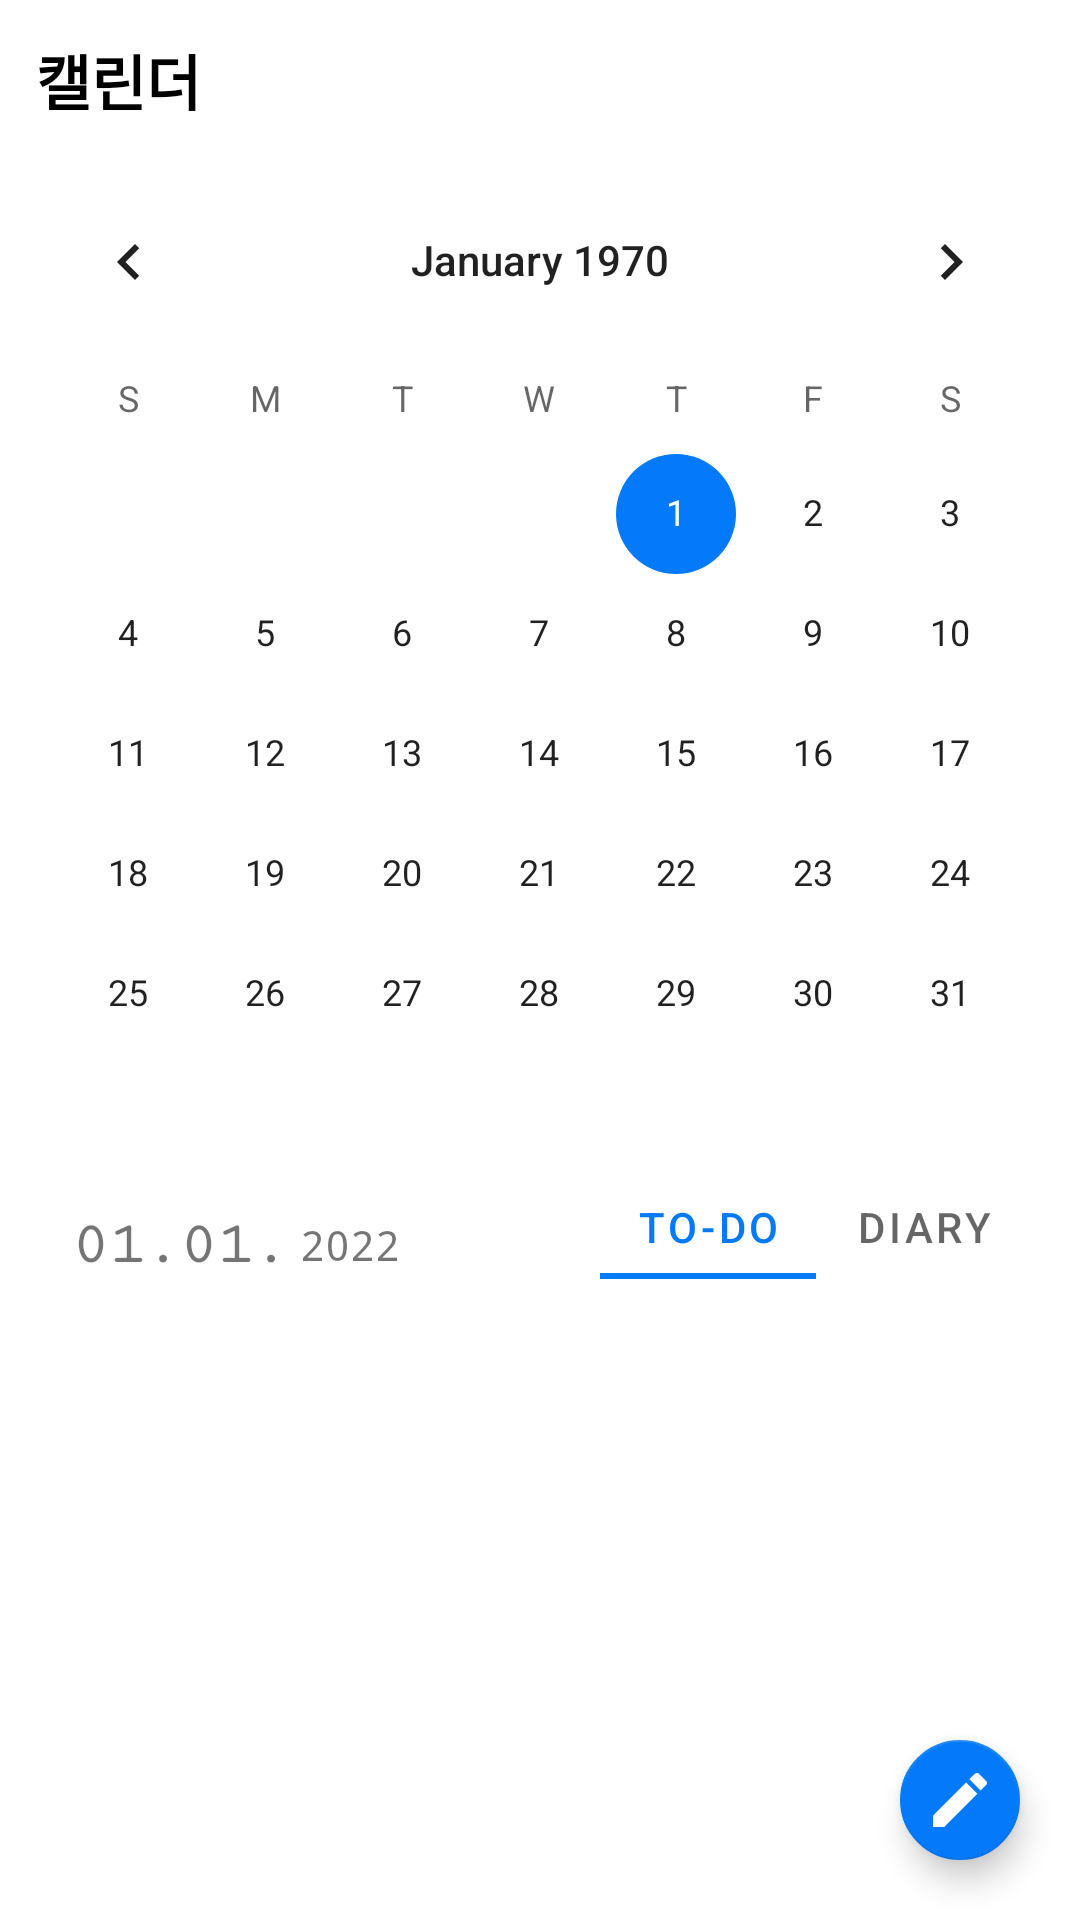

Named icons in this screenshot (1080 × 1920) and their centers, (x=x, y=y):
edit: (x=961, y=1806)
